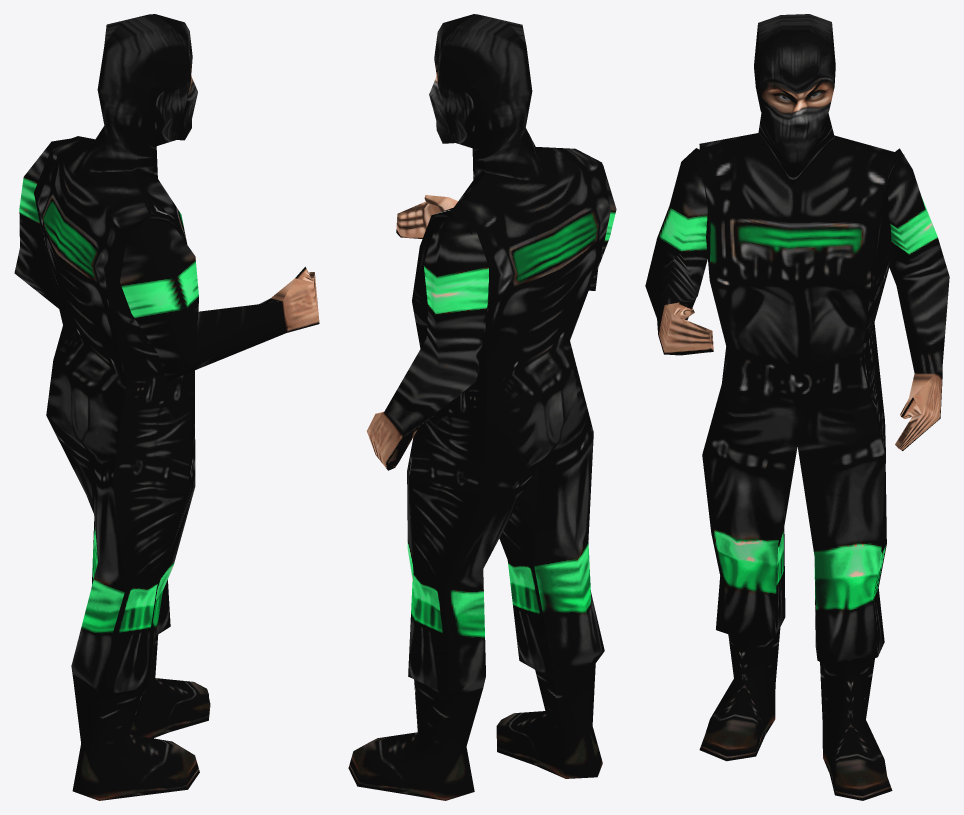
File: spy2_green.glb
3 renders of one model, left to right at view 1: azimuth 30°, elevation 25°; view 2: azimuth 150°, elevation 25°; view 3: azimuth 270°, elevation 25°, orthographic.
Parts seen in each view (by area): view 1: spy2; view 2: spy2; view 3: spy2.
Part boxes in pixels (left/top/right/bottom): spy2: left=14, top=14, right=319, bottom=800; spy2: left=348, top=14, right=616, bottom=800; spy2: left=645, top=14, right=949, bottom=800.
Size of the model in its own units: 23.41 by 74.5 by 28.01.
Materials: 1 (1 with a texture image).
